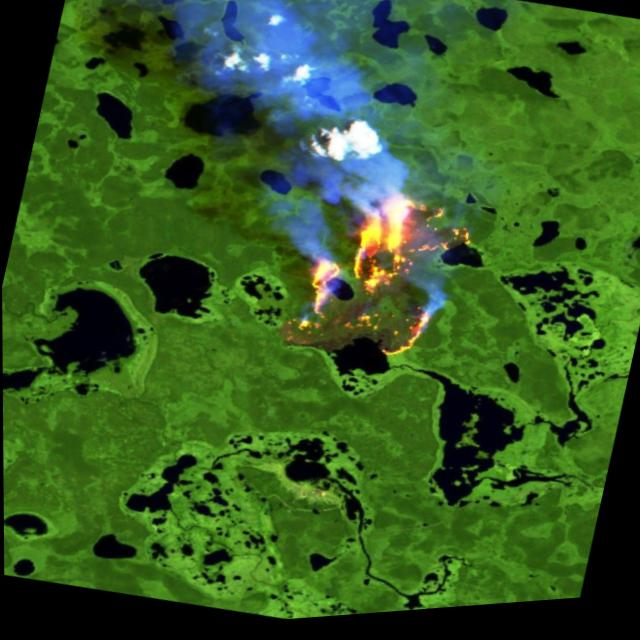fire: (269, 163, 487, 387)
